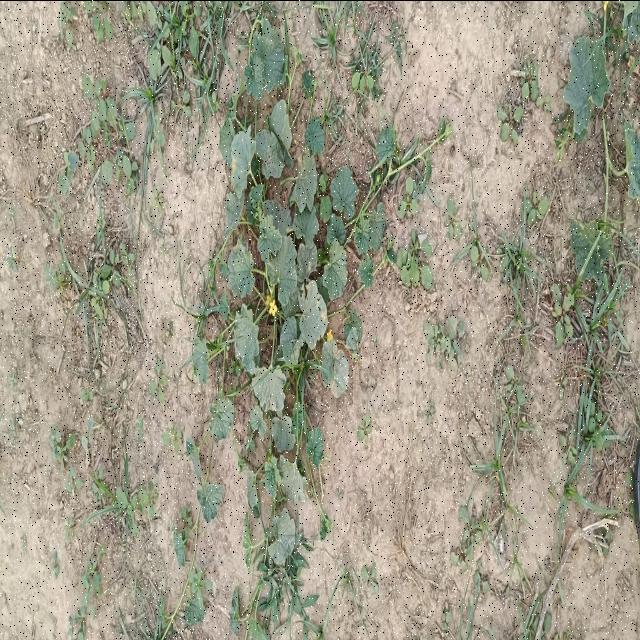plant: (186, 11, 400, 637)
